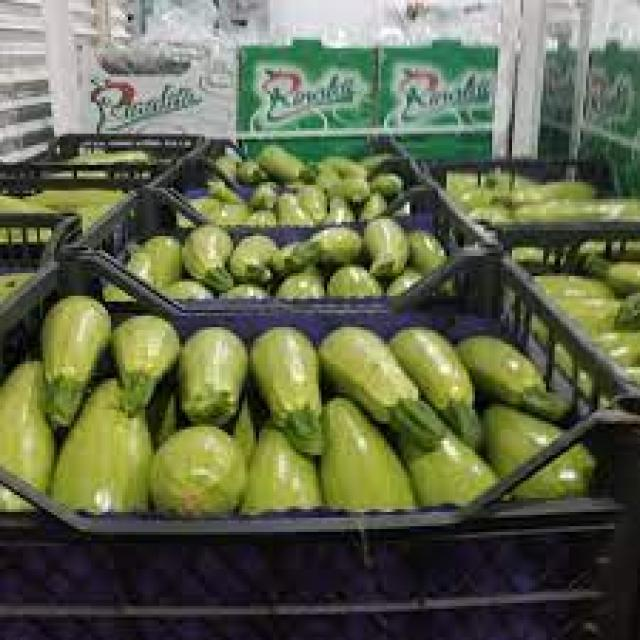Zucchini: (258, 323, 332, 462)
